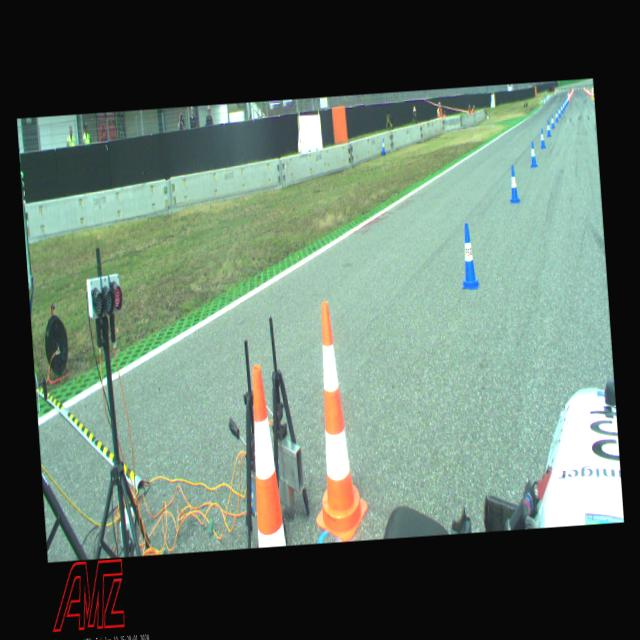blue_cone: (457, 222, 480, 290), (508, 165, 520, 202), (528, 140, 538, 166), (540, 128, 546, 148), (545, 120, 551, 136), (380, 138, 384, 154), (550, 115, 554, 128), (554, 110, 558, 122), (558, 106, 560, 118), (560, 104, 563, 112), (562, 101, 564, 110)
large_orange_cone: (300, 300, 370, 542), (246, 363, 286, 548)
